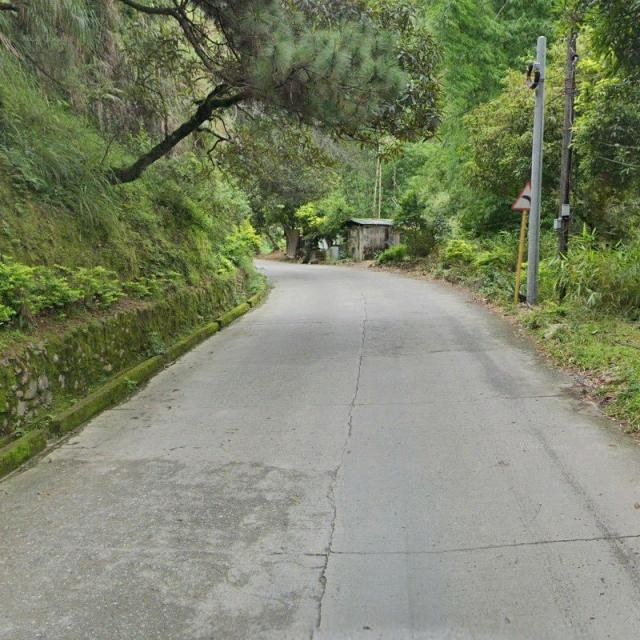warn_left_curve: (512, 183, 540, 210)
